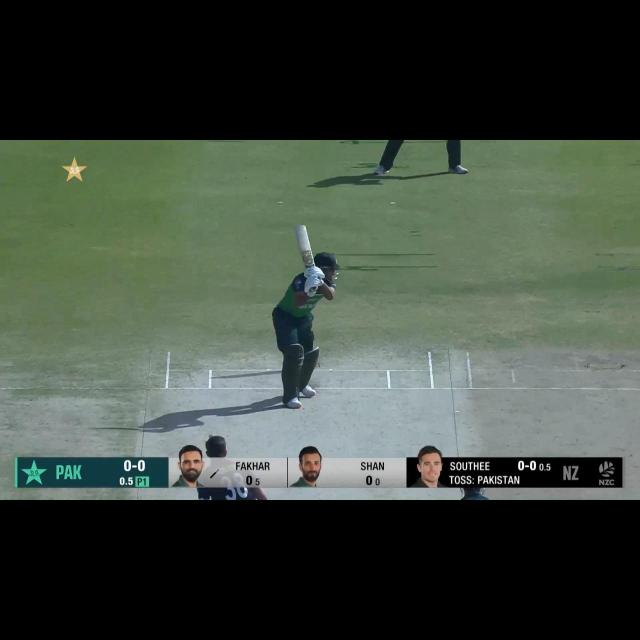bat: (296, 224, 315, 268)
toe: (296, 224, 308, 232)
